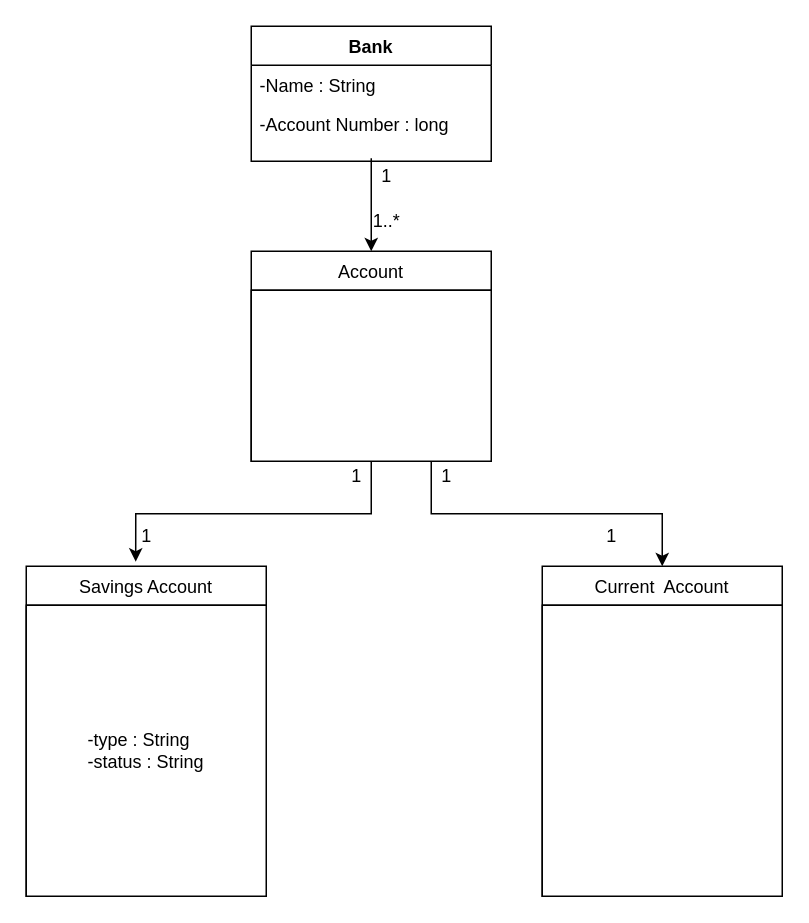
The diagram is 809 pixels wide and 923 high, and some of its shapes have lost their labels. Each missing label, with the centre of its shape:
-balance: long -ownerName: String -createDate: String: the point at 370,375
-type : String -status : String -overDraftBalance : long: the point at 661,750
